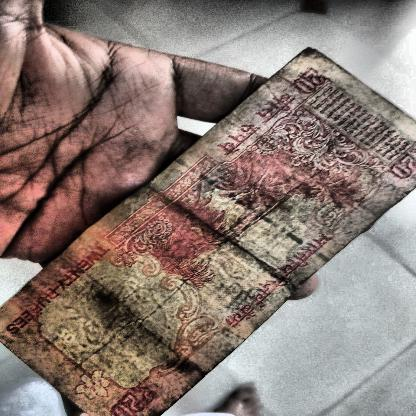Rs2000: (285, 64, 335, 100)
